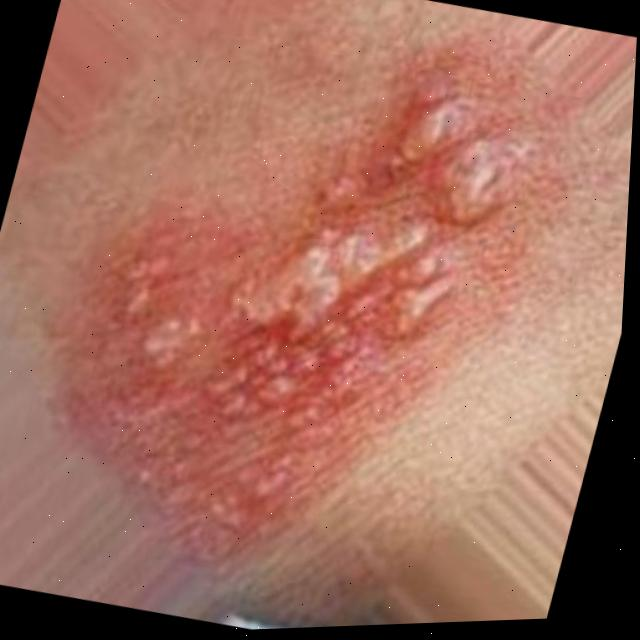Shingles: (65, 33, 537, 560)
